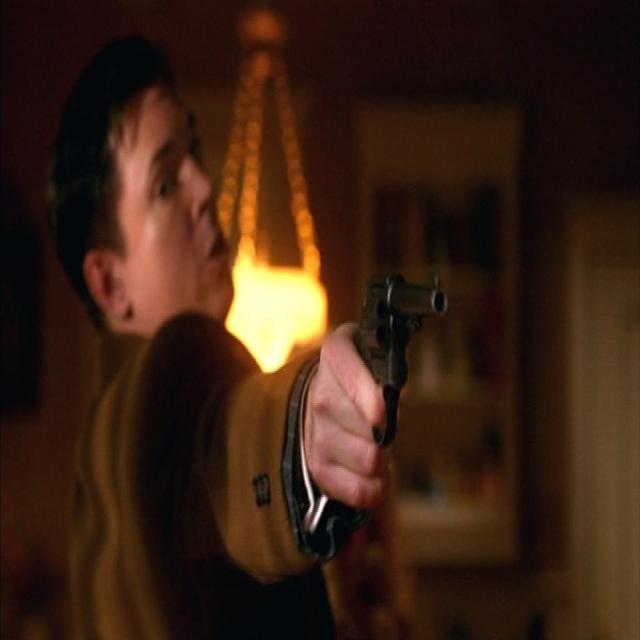weapons: (342, 242, 459, 515)
